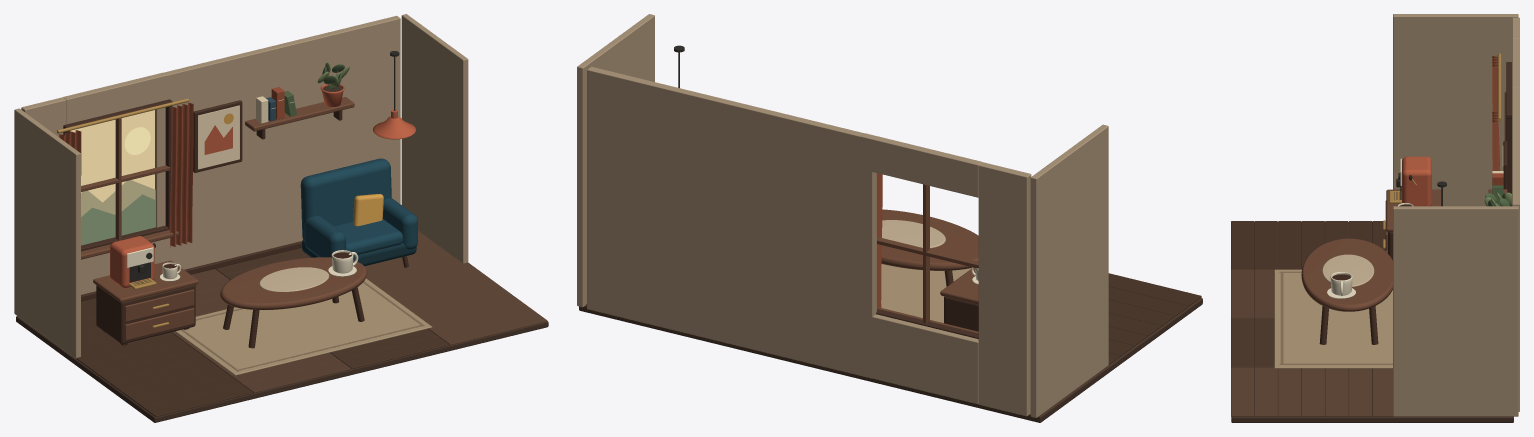
The model's file is souli-walnut-room-v2.glb.
3 renders of one model, left to right at view 1: azimuth 30°, elevation 25°; view 2: azimuth 150°, elevation 25°; view 3: azimuth 270°, elevation 25°, orthographic. The views are drawn at different scales.
Visible parts, largest first — view 1: Wall_right, Return_wall_left, Return_wall_right, Woven_rug, Beveled_oval_tabletop, Rounded_back, Sky_backdrop, Floor_slab, Curtain_right, Wall_above_window, Rounded_arm (×2), Drawer_front (×2) (+46 smaller); view 2: Wall_right, Return_wall_left, Wall_left, Wall_below_window, Return_wall_right, Wall_above_window, Floor_slab, Beveled_oval_tabletop, Woven_rug, Floor_plank_11_0, Warm_neutral_felt_mat, Floor_plank_10_0 (+8 smaller); view 3: Return_wall_right, Return_wall_left, Woven_rug, Beveled_oval_tabletop, Floor_slab, Machine_body, Wall_right, Floor_plank_11_1, Floor_plank_11_2, Floor_plank_11_3, Floor_plank_10_3, Floor_plank_9_0 (+24 smaller).
Boxes of the visible parts, x1=… form: Wall_right: x1=155, y1=15, x2=400, y2=269; Return_wall_left: x1=14, y1=108, x2=80, y2=358; Return_wall_right: x1=401, y1=14, x2=468, y2=263; Woven_rug: x1=175, y1=278, x2=432, y2=375; Beveled_oval_tabletop: x1=220, y1=257, x2=367, y2=309; Rounded_back: x1=300, y1=158, x2=391, y2=241; Sky_backdrop: x1=70, y1=110, x2=154, y2=202; Floor_slab: x1=16, y1=316, x2=548, y2=422; Curtain_right: x1=170, y1=102, x2=193, y2=247; Wall_above_window: x1=63, y1=72, x2=166, y2=124; Rounded_arm (×2): x1=304, y1=198, x2=417, y2=257; Drawer_front (×2): x1=125, y1=289, x2=194, y2=340; Wall_right: x1=587, y1=66, x2=876, y2=378; Return_wall_left: x1=1030, y1=124, x2=1108, y2=417; Wall_left: x1=978, y1=162, x2=1031, y2=416; Wall_below_window: x1=861, y1=314, x2=978, y2=404; Return_wall_right: x1=577, y1=14, x2=654, y2=307; Wall_above_window: x1=861, y1=133, x2=982, y2=197; Floor_slab: x1=579, y1=297, x2=1202, y2=422; Beveled_oval_tabletop: x1=881, y1=209, x2=978, y2=270; Woven_rug: x1=881, y1=264, x2=974, y2=322; Floor_plank_11_0: x1=1108, y1=273, x2=1201, y2=306; Warm_neutral_felt_mat: x1=882, y1=220, x2=945, y2=248; Floor_plank_10_0: x1=1108, y1=286, x2=1188, y2=316; Return_wall_right: x1=1393, y1=206, x2=1518, y2=416; Return_wall_left: x1=1393, y1=14, x2=1518, y2=206; Woven_rug: x1=1274, y1=269, x2=1392, y2=368; Beveled_oval_tabletop: x1=1301, y1=238, x2=1392, y2=311; Floor_slab: x1=1231, y1=222, x2=1513, y2=422; Machine_body: x1=1402, y1=156, x2=1431, y2=206; Wall_right: x1=1512, y1=87, x2=1519, y2=411; Floor_plank_11_1: x1=1231, y1=269, x2=1254, y2=318; Floor_plank_11_2: x1=1231, y1=318, x2=1254, y2=367; Floor_plank_11_3: x1=1231, y1=367, x2=1254, y2=416; Floor_plank_10_3: x1=1254, y1=367, x2=1277, y2=416; Floor_plank_9_0: x1=1278, y1=221, x2=1301, y2=269.
Bounding box in the file's own units: 11.8 × 6.04 × 7.35.
